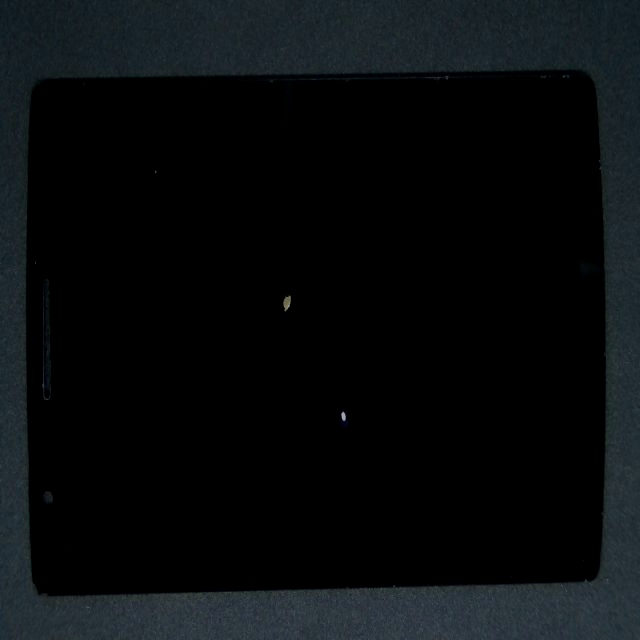stain: (151, 205, 507, 640), (99, 173, 432, 479)
